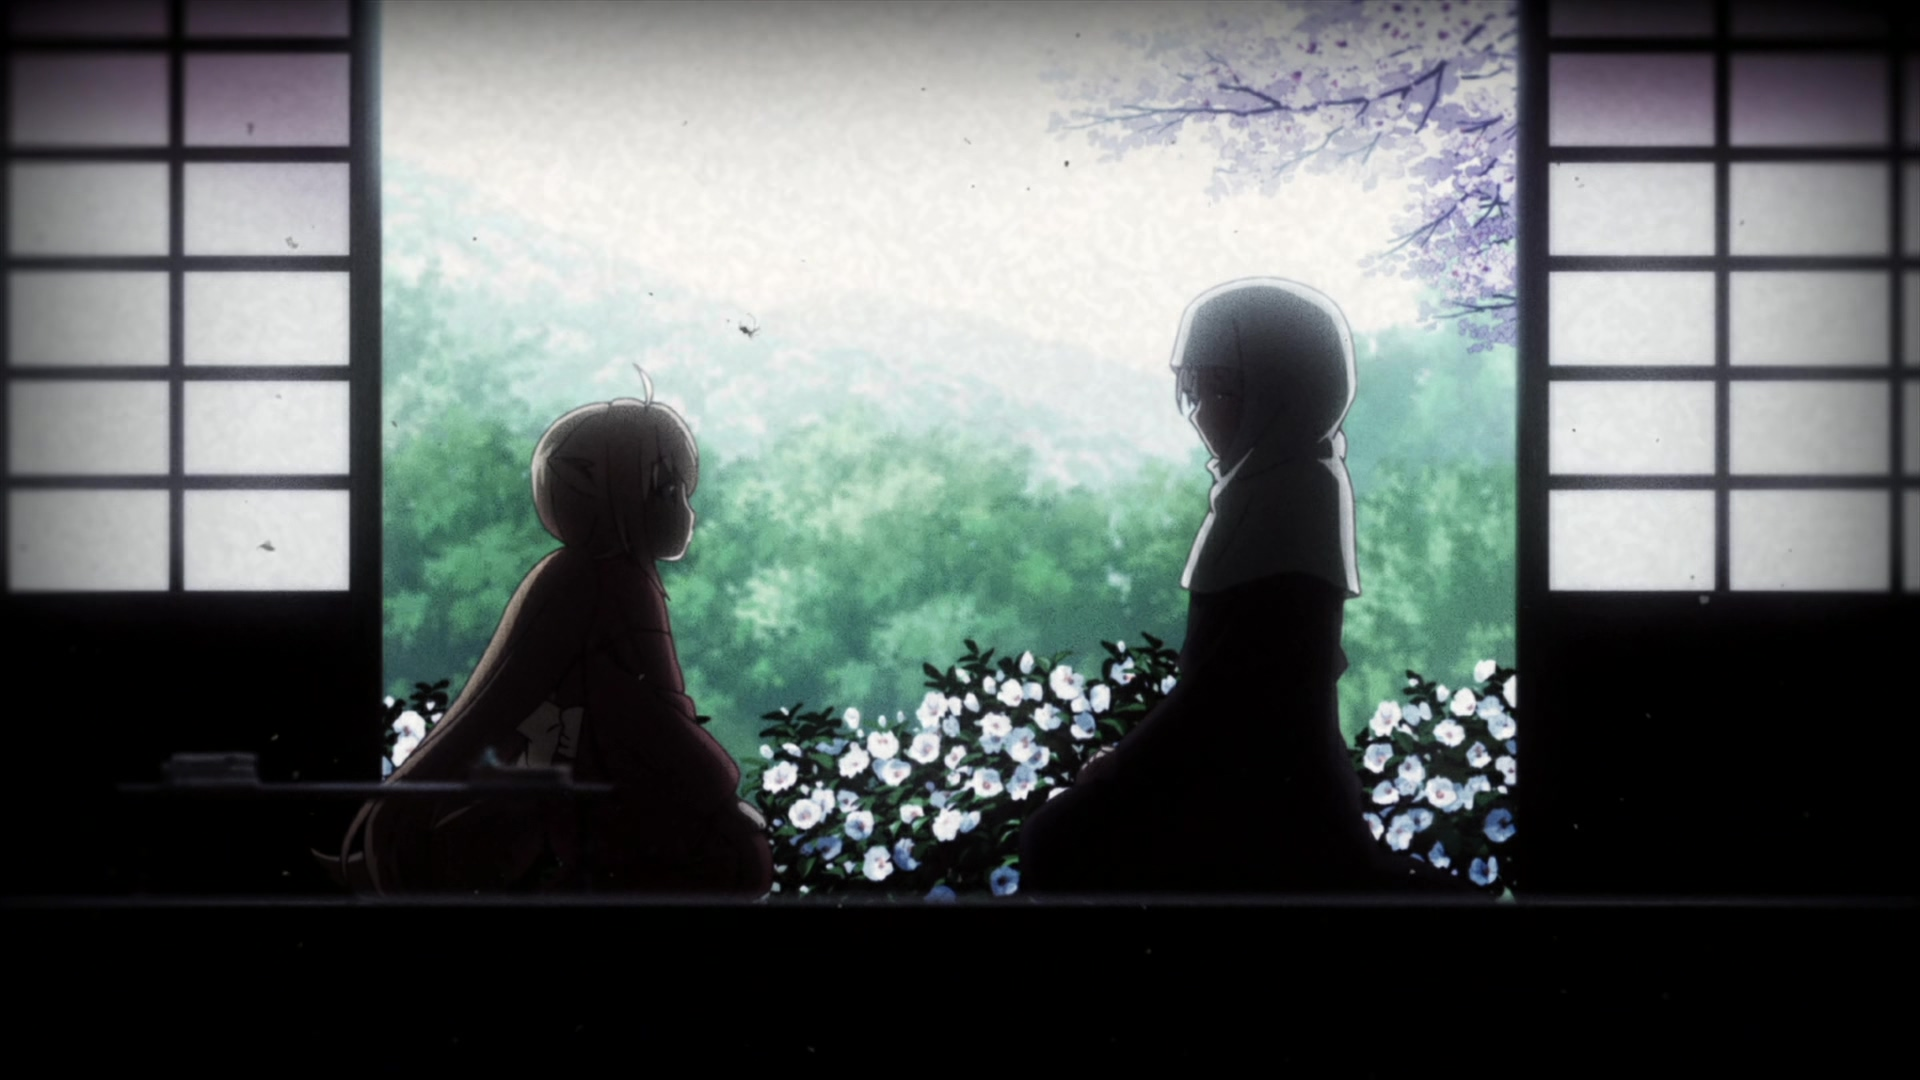八百比丘尼: (1018, 280, 1432, 893)
柚: (348, 363, 781, 905)
